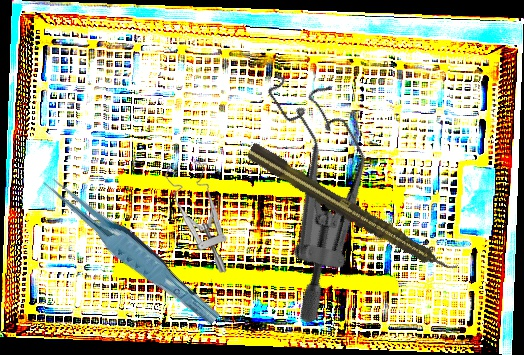Handpiece: (244, 140, 460, 282)
Speculum: (191, 52, 427, 327), (161, 159, 231, 274)
Tissue Forceps: (40, 160, 222, 338)
